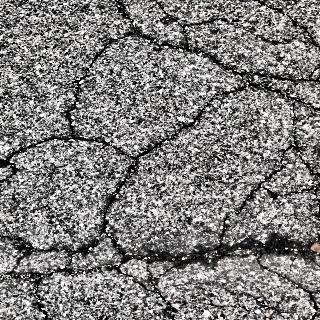alligator-crack: (29, 12, 288, 320)
